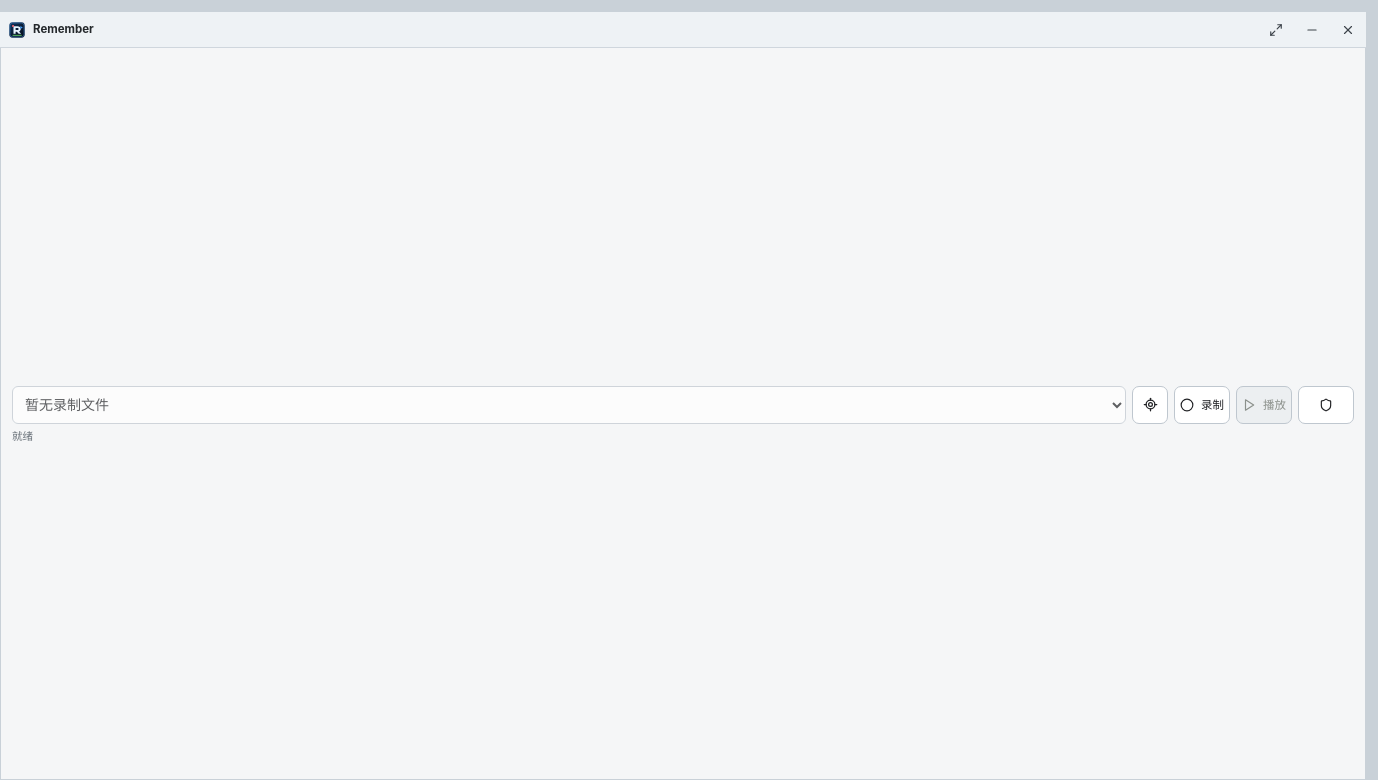
it: App › keeps the window-relative preference unchanged when saving fails
Click the button named "启用窗口相对录制". click: (1150, 405)
box: [1132,386,1168,424]
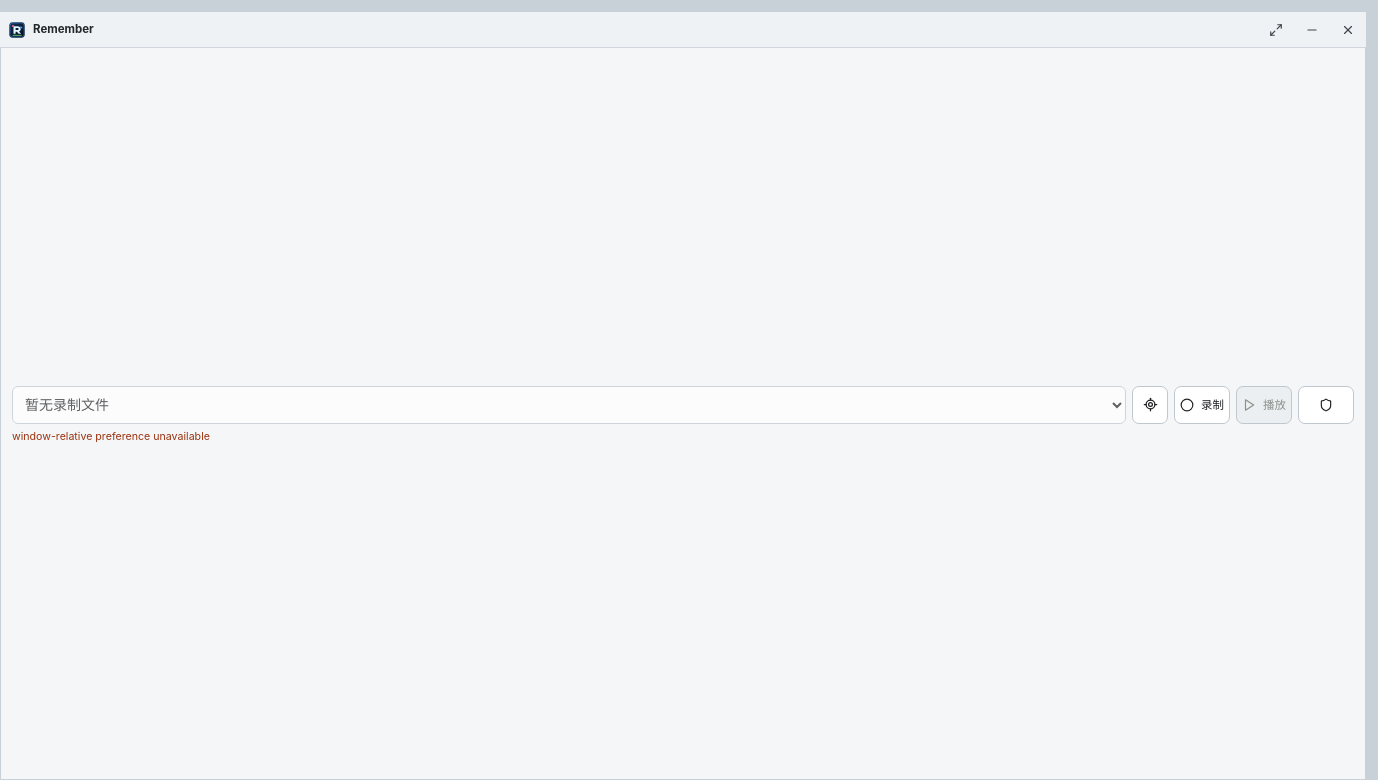
Check: the message reads "window-relative preference unavailable", box [12,430,210,443]
